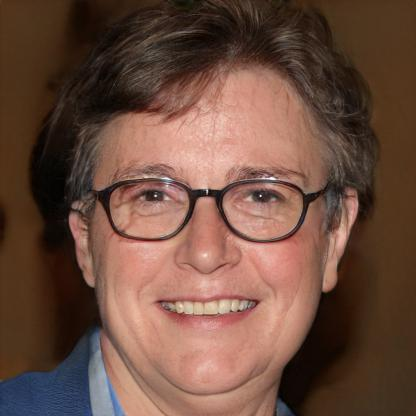glasses: (96, 172, 323, 247)
